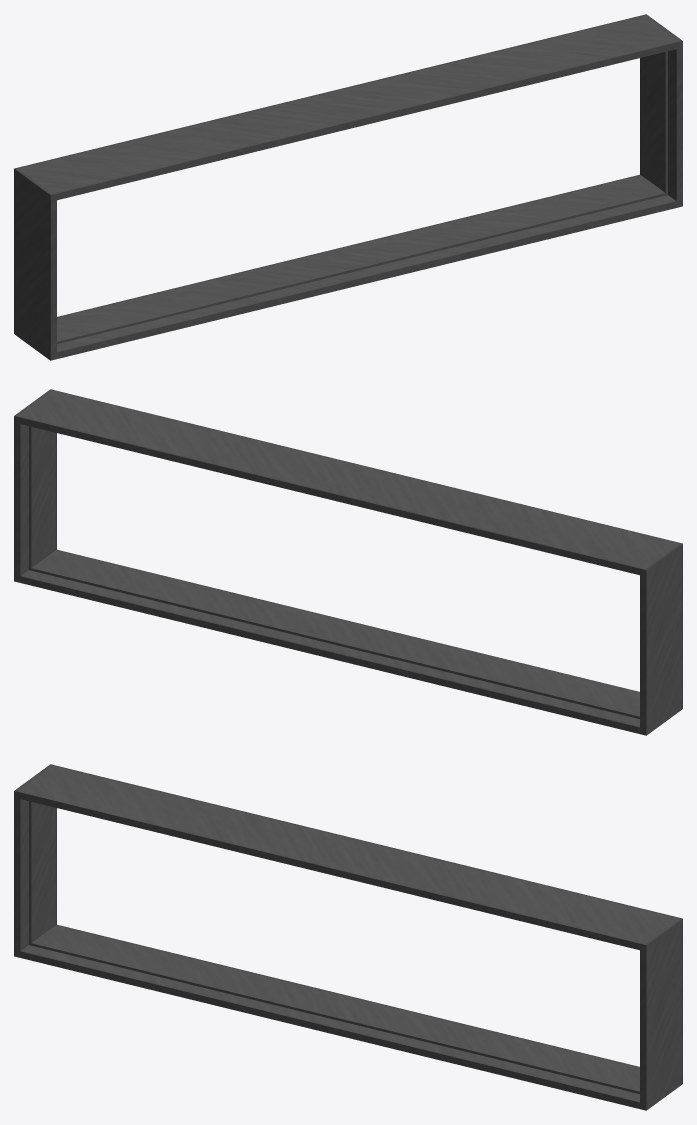
Rendered from WinFrame3x0_75Horz.gltf.
The picture shows the model from 3 angles, top to bottom: view 1: azimuth 30°, elevation 25°; view 2: azimuth 150°, elevation 25°; view 3: azimuth 330°, elevation 25°; orthographic projection.
Parts seen in each view (by area): view 1: WinFrame3x0_75HorzShape; view 2: WinFrame3x0_75HorzShape; view 3: WinFrame3x0_75HorzShape.
Part boxes in pixels (bbox=[...]): WinFrame3x0_75HorzShape: bbox=[14, 14, 682, 360]; WinFrame3x0_75HorzShape: bbox=[14, 389, 682, 735]; WinFrame3x0_75HorzShape: bbox=[14, 764, 682, 1110].
Bounding box in the file's own units: 3 × 0.75 × 0.3.
1 material, 1 textured.
